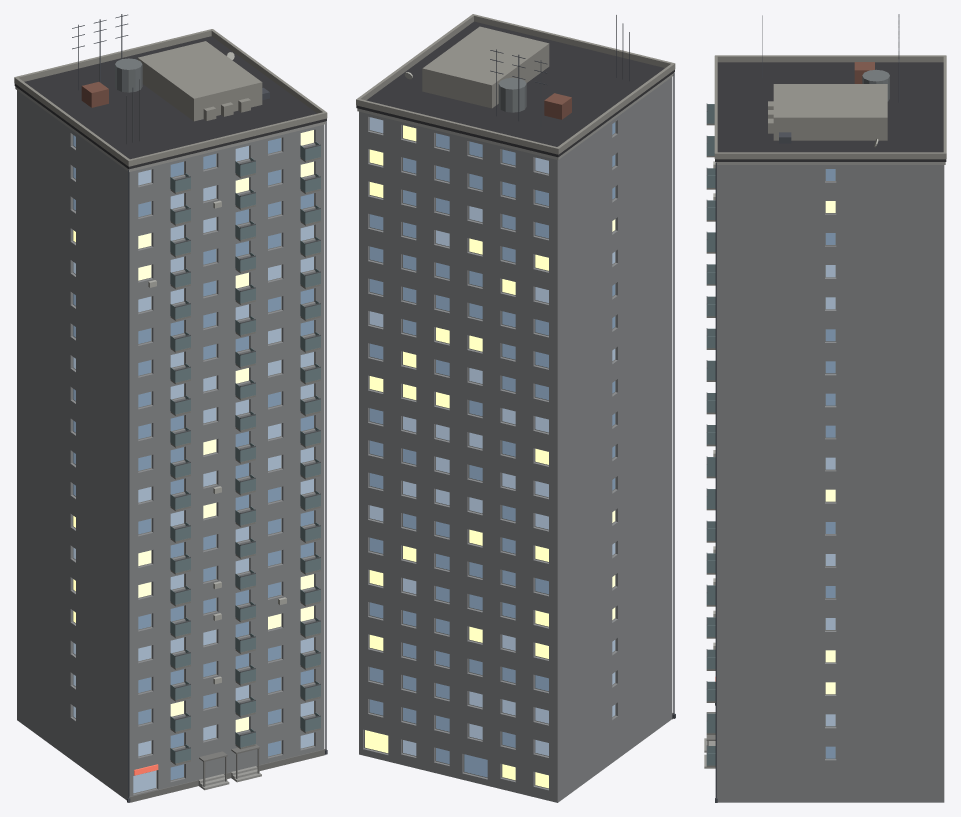
Rendered from residential_tower.glb.
3 views of the same model, side by side, from view 1: azimuth 30°, elevation 25°; view 2: azimuth 150°, elevation 25°; view 3: azimuth 270°, elevation 25° (orthographic).
Parts seen in each view (by area): view 1: facade_front, facade_left, roof_slab, tech_floor, parapet_y, parapet_y.001, downpipe, downpipe.001, cornice, parapet_x, parapet_x.001, plinth (+2 smaller); view 2: facade_back, facade_left, roof_slab, tech_floor, parapet_y.001, parapet_y, downpipe, cornice, parapet_x, parapet_x.001, water_tank, vent_stack; view 3: facade_right, roof_slab, tech_floor, parapet_x.001, parapet_x, downpipe.001, cornice.
Boxes of the visible parts, x1=… form: facade_front: x1=129, y1=124, x2=324, y2=796; facade_left: x1=17, y1=90, x2=129, y2=800; roof_slab: x1=14, y1=36, x2=326, y2=169; tech_floor: x1=137, y1=41, x2=262, y2=121; parapet_y: x1=129, y1=112, x2=326, y2=166; parapet_y.001: x1=14, y1=29, x2=213, y2=81; downpipe: x1=128, y1=169, x2=129, y2=798; downpipe.001: x1=325, y1=121, x2=326, y2=750; cornice: x1=15, y1=86, x2=325, y2=171; parapet_x: x1=14, y1=76, x2=130, y2=166; parapet_x.001: x1=210, y1=29, x2=327, y2=117; plinth: x1=129, y1=749, x2=325, y2=802; facade_back: x1=359, y1=111, x2=557, y2=802; facade_left: x1=557, y1=77, x2=672, y2=802; roof_slab: x1=356, y1=21, x2=674, y2=157; tech_floor: x1=422, y1=26, x2=549, y2=108; parapet_y.001: x1=356, y1=99, x2=558, y2=154; parapet_y: x1=472, y1=14, x2=674, y2=67; downpipe: x1=673, y1=73, x2=674, y2=714; cornice: x1=357, y1=73, x2=673, y2=159; parapet_x: x1=556, y1=63, x2=675, y2=154; parapet_x.001: x1=356, y1=14, x2=474, y2=104; water_tank: x1=498, y1=77, x2=526, y2=112; vent_stack: x1=544, y1=93, x2=571, y2=119; facade_right: x1=717, y1=165, x2=944, y2=802; roof_slab: x1=715, y1=62, x2=946, y2=161; tech_floor: x1=773, y1=84, x2=887, y2=140; parapet_x.001: x1=715, y1=152, x2=946, y2=159; parapet_x: x1=715, y1=55, x2=945, y2=62; downpipe.001: x1=715, y1=162, x2=716, y2=798; cornice: x1=715, y1=162, x2=945, y2=164.
Size of what is drawn, in the model's own units: 18.44 by 62 by 19.17.
